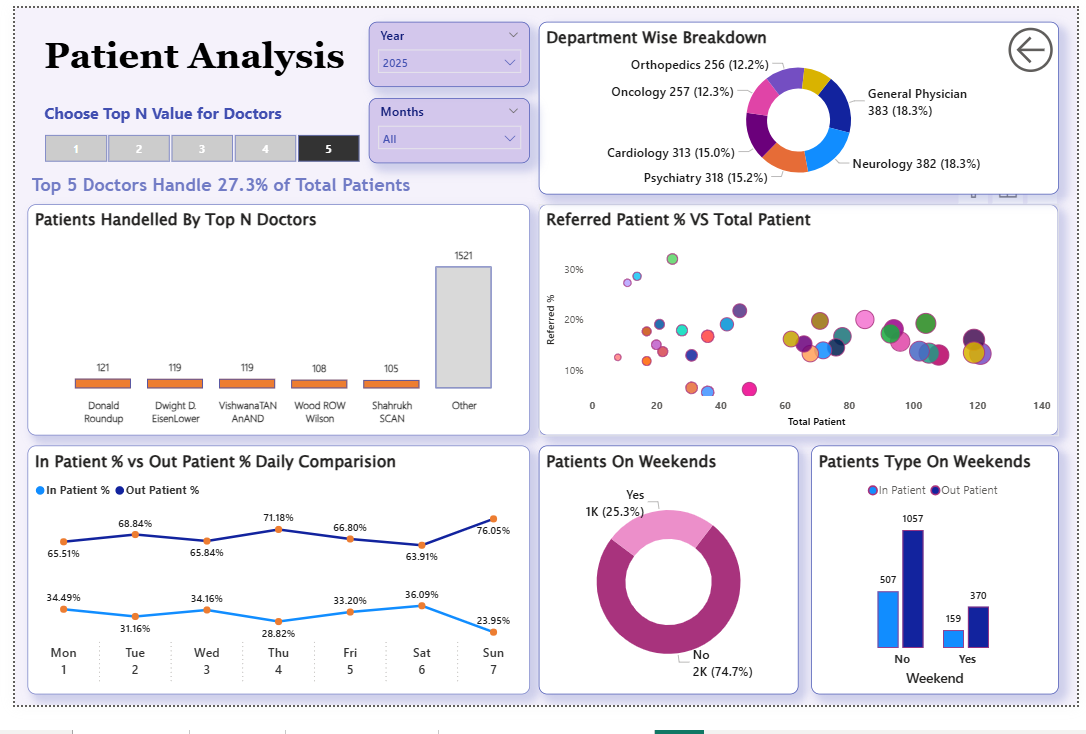

What the dashboard file says about the page in this screenshot:
{"tool":"powerbi","page":{"name":"Doctor Patient Relations","canvas":[1250,820],"ordinal":3},"visuals":[{"type":"slicer","fields":{"Values":["Top N Selection.Value"]},"box":[15.4,146.3,409.5,35.9],"z":0},{"type":"columnChart","title":"Patients Handelled By Top  N Doctors","fields":{"Category":["Pseudo Table.doctor"],"Y":["Pseudo Table.Top N Doctor Patients"]},"box":[15.4,230.8,591,271.8],"z":1000},{"type":"cardVisual","fields":{"Data":["Pseudo Table.Top N Title"]},"box":[15.4,182.1,566.7,48.7],"z":2000},{"type":"scatterChart","title":"Referred Patient % VS Total Patient","fields":{"X":["patients.Total Patients"],"Y":["patients.Referred Patient Rate"],"Series":["doctors.doctor"],"Size":["patients.Total Patients"]},"box":[616.7,230.8,611.5,271.8],"z":3000},{"type":"lineChart","title":"In Patient % vs Out Patient % Daily Comparision","fields":{"Y":["patients.In Patient %","patients.Out Patient %"],"Category":["calendar.Day Number","calendar.DayNameShort"]},"box":[14.7,514.7,591.2,292.6],"z":4000},{"type":"slicer","fields":{"Values":["calendar.Date.Variation.Date Hierarchy.Year"]},"box":[416.2,16.2,189.7,76.5],"z":5000},{"type":"donutChart","title":"Patients On Weekends","fields":{"Y":["patients.Total Patients"],"Category":["calendar.IsWeekend"]},"box":[616.2,514.7,305.9,292.6],"z":6000},{"type":"donutChart","title":"Department Wise Breakdown","fields":{"Y":["patients.Total Patients"],"Category":["doctors.department"]},"box":[616.2,16.2,611.8,202.9],"z":7000},{"type":"slicer","fields":{"Values":["calendar.MonthNameShort"]},"box":[416.2,105.9,189.7,76.5],"z":7001},{"type":"clusteredColumnChart","title":"Patients Type On Weekends","fields":{"Category":["calendar.IsWeekend"],"Y":["patients.Total Patients"],"Series":["patients.Patient Type"]},"box":[936.8,514.7,291.2,292.6],"z":7002},{"type":"textbox","box":[29.4,105.9,355.9,41.2],"z":7003},{"type":"textbox","box":[29.4,26.5,455.9,66.2],"z":7004},{"type":"actionButton","box":[1161.8,16.2,66.2,66.2],"z":7005}]}

Visuals, with their boxes in screenshot pixels (x1, y1, x2, y2), scaled from the page's 1250x820 canvas onto the 1086x734 screenshot:
slicer - Top N Selection.Value: bbox=[13, 131, 369, 163]
"Patients Handelled By Top  N Doctors" columnChart: bbox=[13, 207, 527, 450]
cardVisual - Pseudo Table.Top N Title: bbox=[13, 163, 506, 207]
"Referred Patient % VS Total Patient" scatterChart: bbox=[536, 207, 1067, 450]
"In Patient % vs Out Patient % Daily Comparision" lineChart: bbox=[13, 461, 526, 723]
slicer - calendar.Date.Variation.Date Hierarchy.Year: bbox=[362, 15, 526, 83]
"Patients On Weekends" donutChart: bbox=[535, 461, 801, 723]
"Department Wise Breakdown" donutChart: bbox=[535, 15, 1067, 196]
slicer - calendar.MonthNameShort: bbox=[362, 95, 526, 163]
"Patients Type On Weekends" clusteredColumnChart: bbox=[814, 461, 1067, 723]
textbox: bbox=[26, 95, 335, 132]
textbox: bbox=[26, 24, 422, 83]
actionButton: bbox=[1009, 15, 1067, 74]
